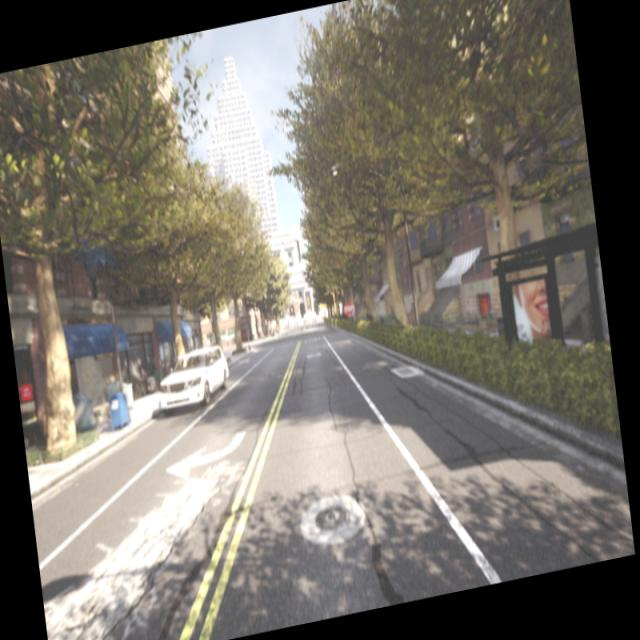stop sign: (341, 298, 356, 319)
